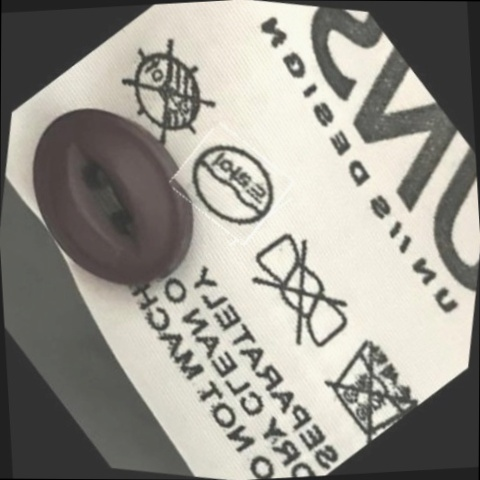DN_dry: (112, 36, 224, 149)
DN_wring: (237, 231, 363, 357)
dry_clean: (181, 133, 282, 237)
hand_wash: (316, 327, 423, 441)
